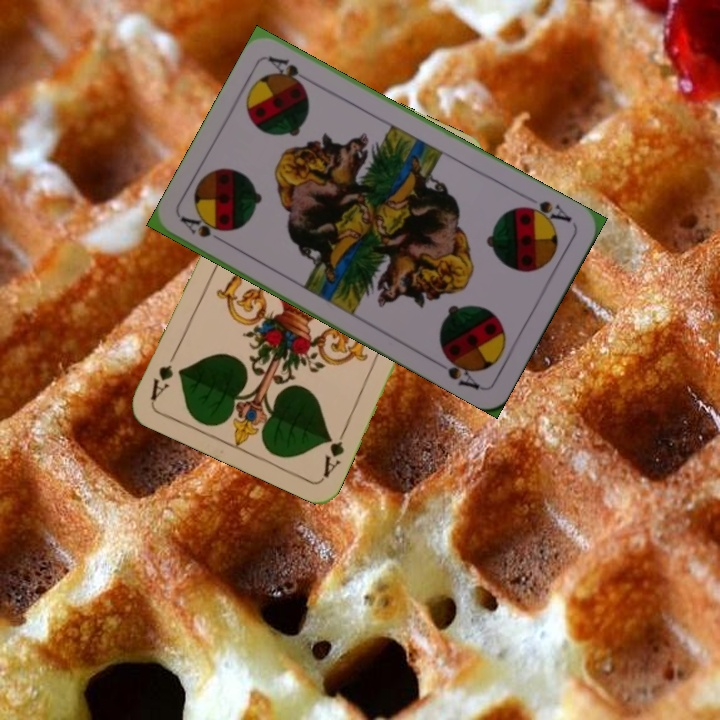GA: (319, 424, 349, 481)
SA: (517, 196, 575, 228), (177, 212, 228, 241)
